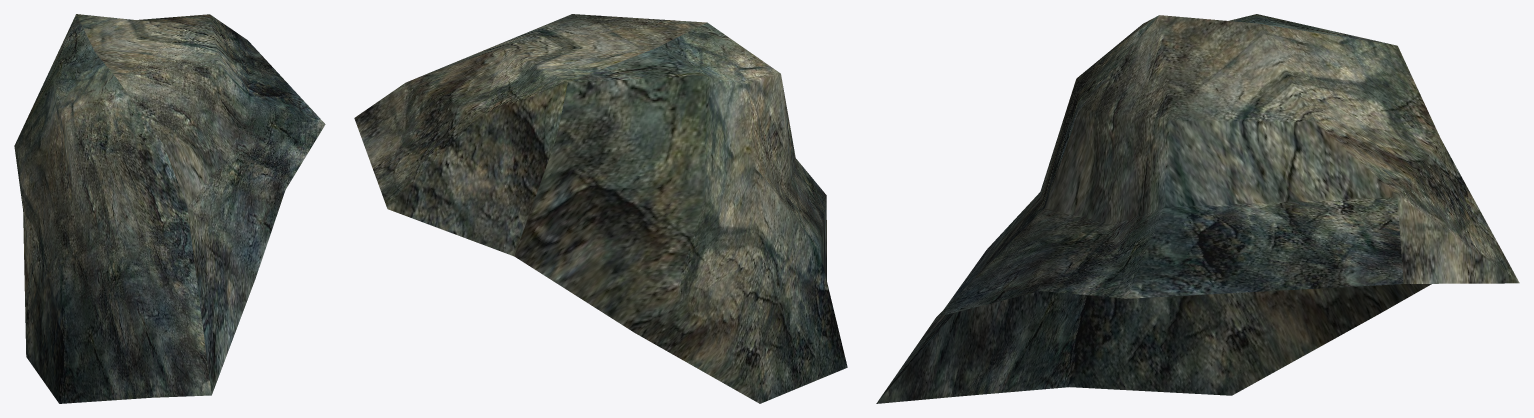
The model's file is mound_light_small.fbx.
3 views of the same model, side by side, from view 1: azimuth 30°, elevation 25°; view 2: azimuth 150°, elevation 25°; view 3: azimuth 270°, elevation 25° (orthographic). The views are drawn at different scales.
Parts seen in each view (by area): view 1: lod_high; view 2: lod_high; view 3: lod_high.
Boxes of the visible parts, left/top/right/bottom form: lod_high: left=14, top=14, right=325, bottom=403; lod_high: left=354, top=14, right=847, bottom=403; lod_high: left=876, top=14, right=1519, bottom=403.
Size of the model in its own units: 6699 by 6117 by 8170.
Materials: 1 (1 with a texture image).
